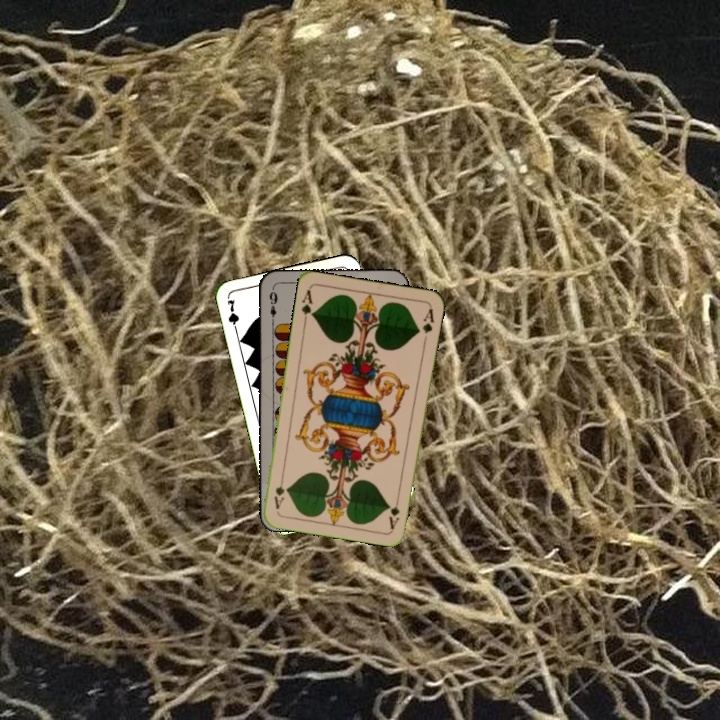E9: (266, 287, 280, 326)
G7: (223, 295, 242, 336)
GA: (297, 285, 316, 326), (386, 490, 402, 531)
